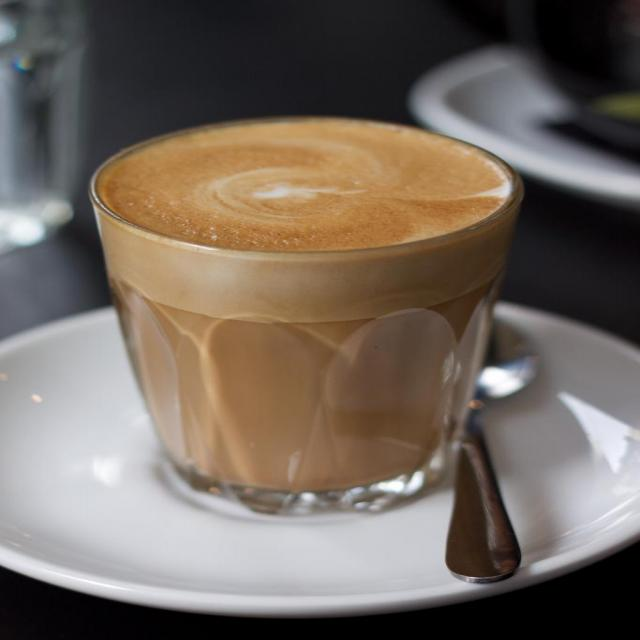Coffee: (99, 120, 520, 507)
